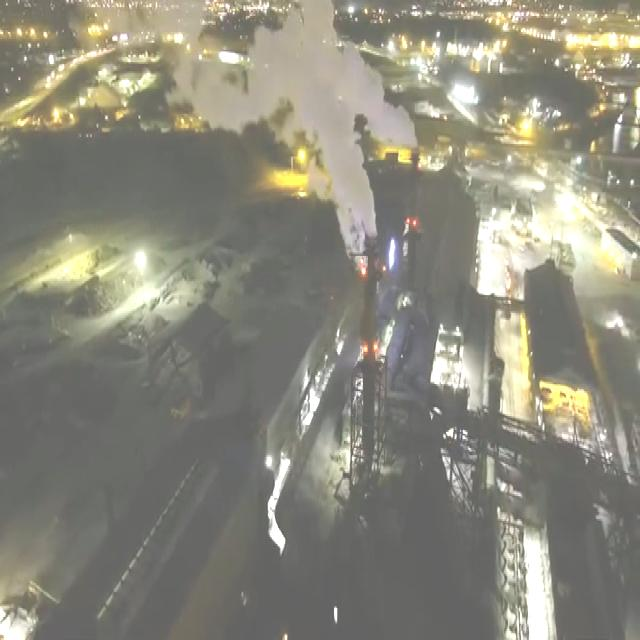smoke: (190, 20, 378, 254), (294, 0, 416, 148)
